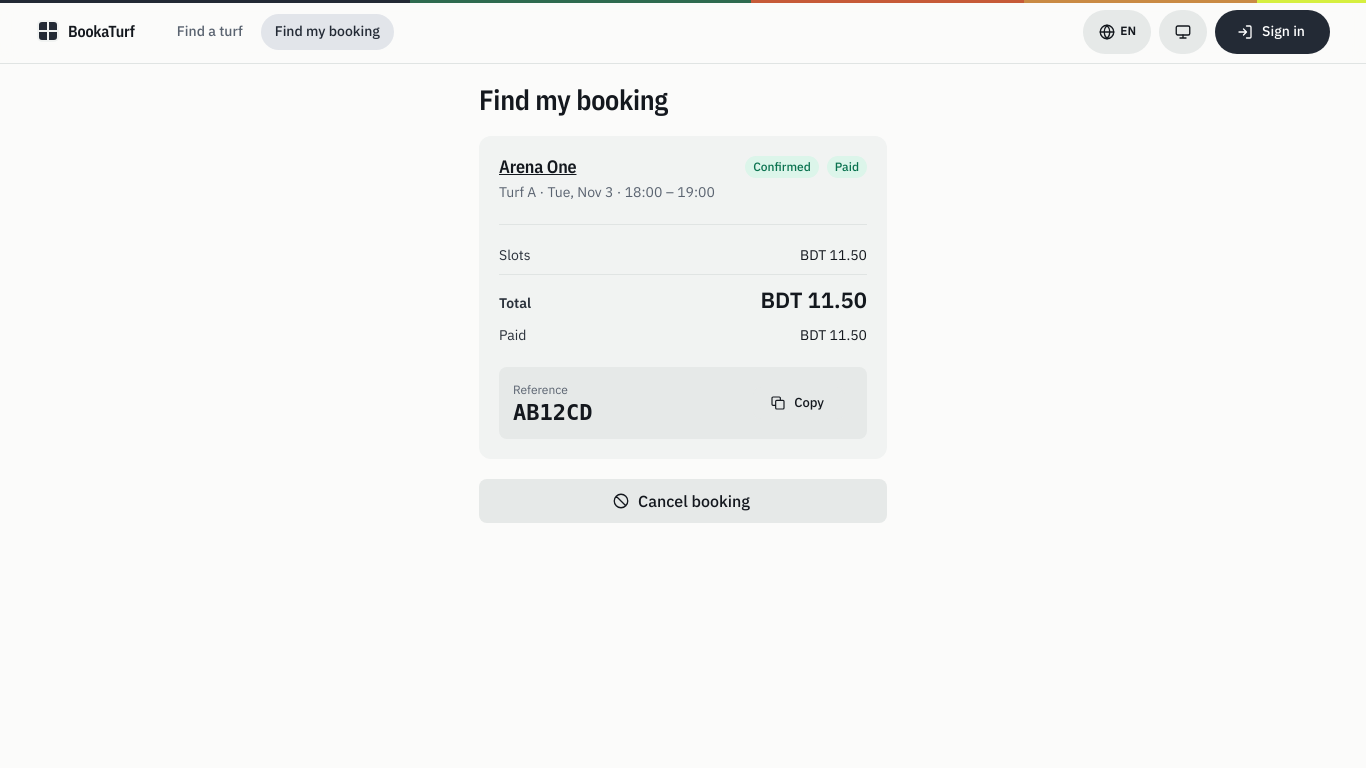
Test: guest lookup › guest cancel needs code
Step 1. Click the button "Cancel booking" → (683, 501), box [479,479,887,523]
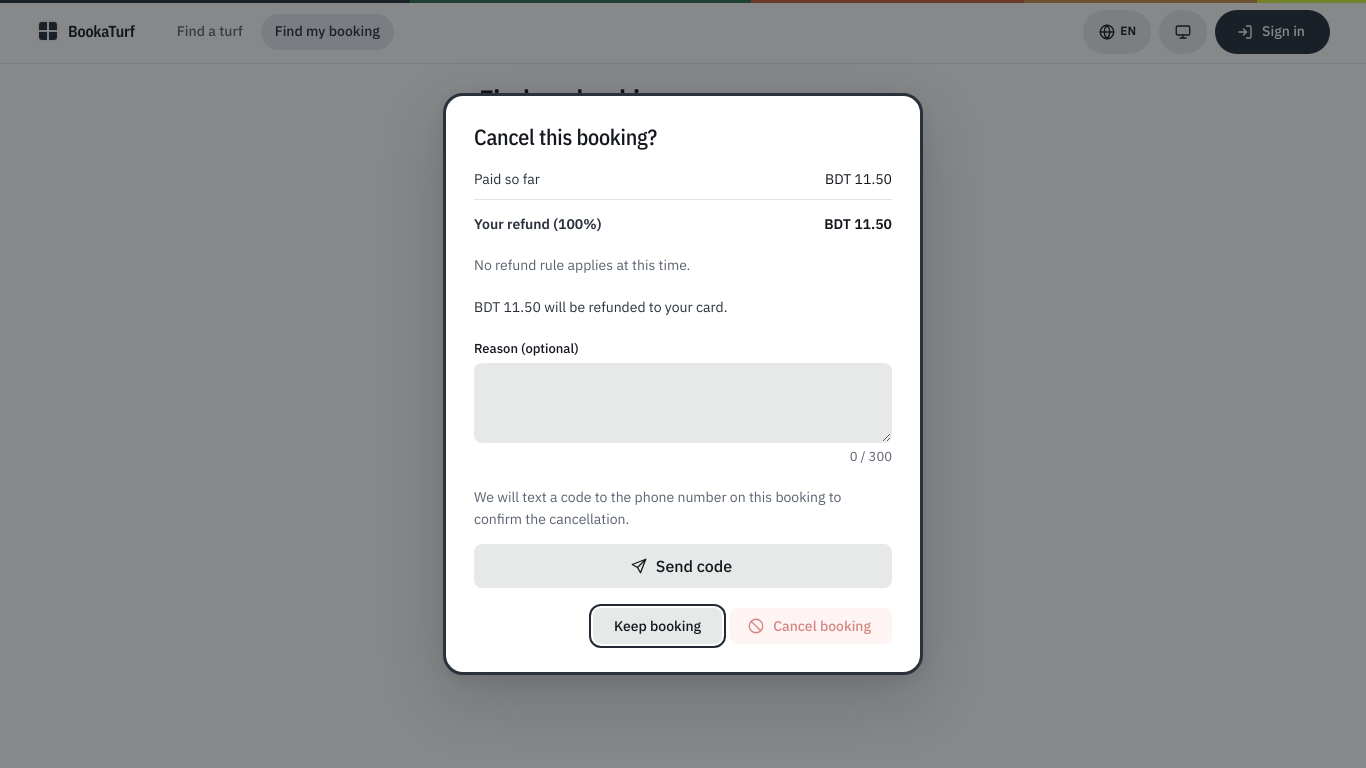
Expected: the button "Send code" is shown
Expected: the button "Cancel booking" below "300" is disabled, [730,608,892,644]
Step 2. Click the button "Send code" → (683, 566), box [474,544,892,588]
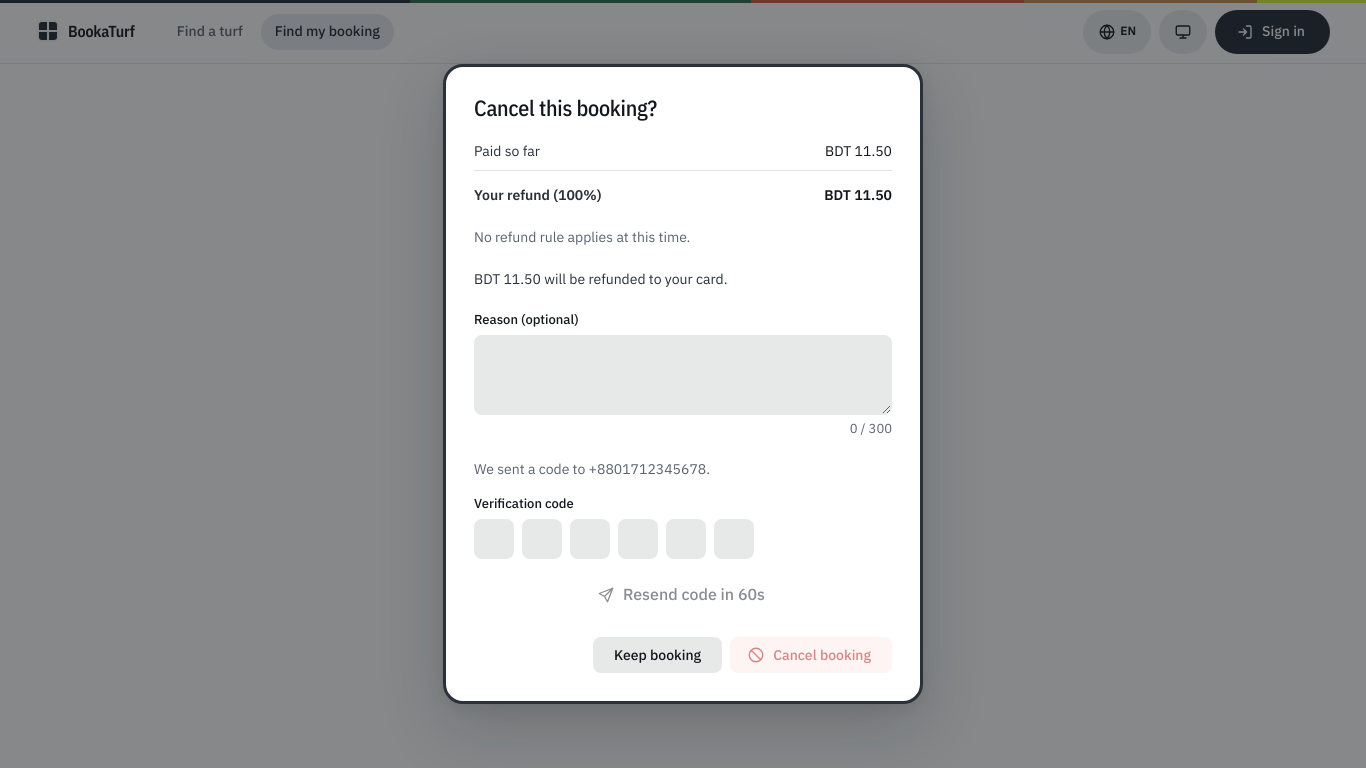
Expected: the button "Cancel booking" below "Verification code" is disabled, [730,637,892,673]
Step 3. Click the field named "Digit 1 of 6" → (494, 539), box [474,519,514,559]
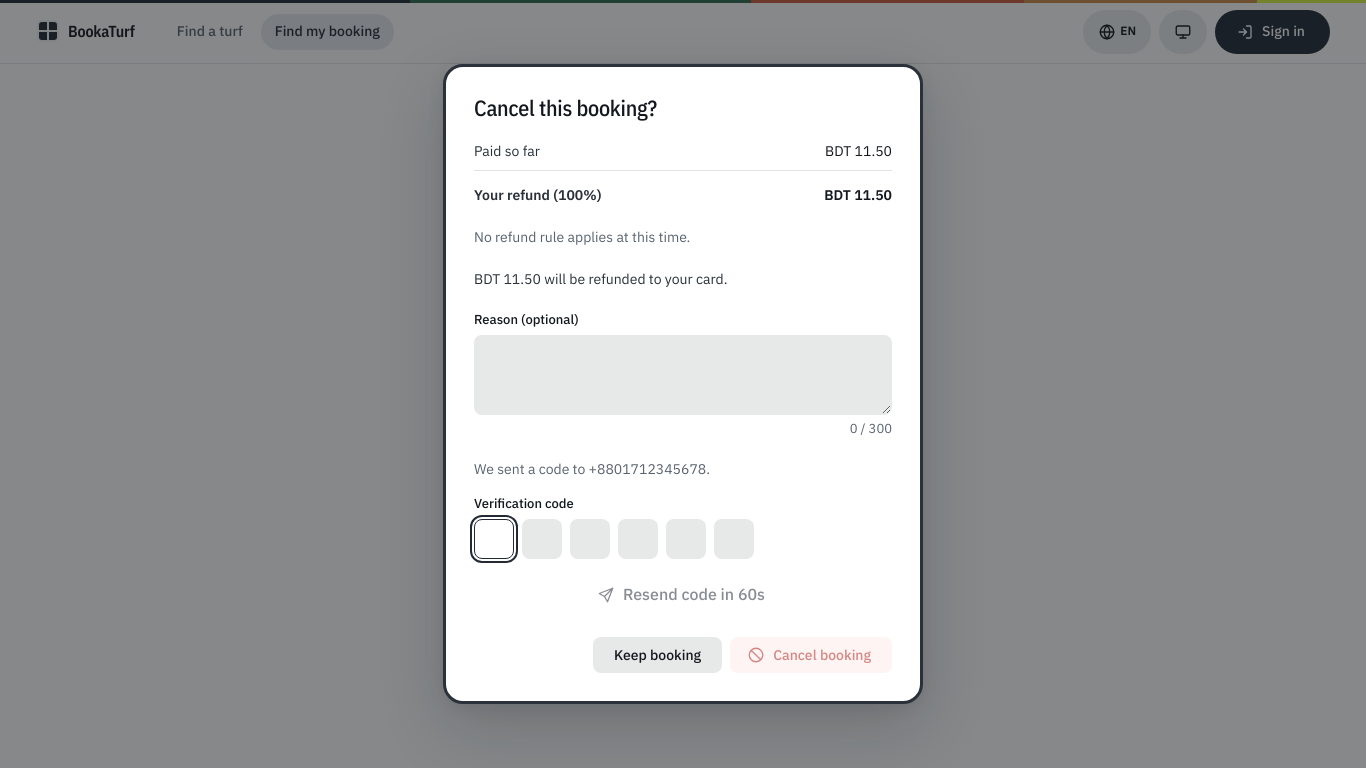
Step 4. Type keys "123456"
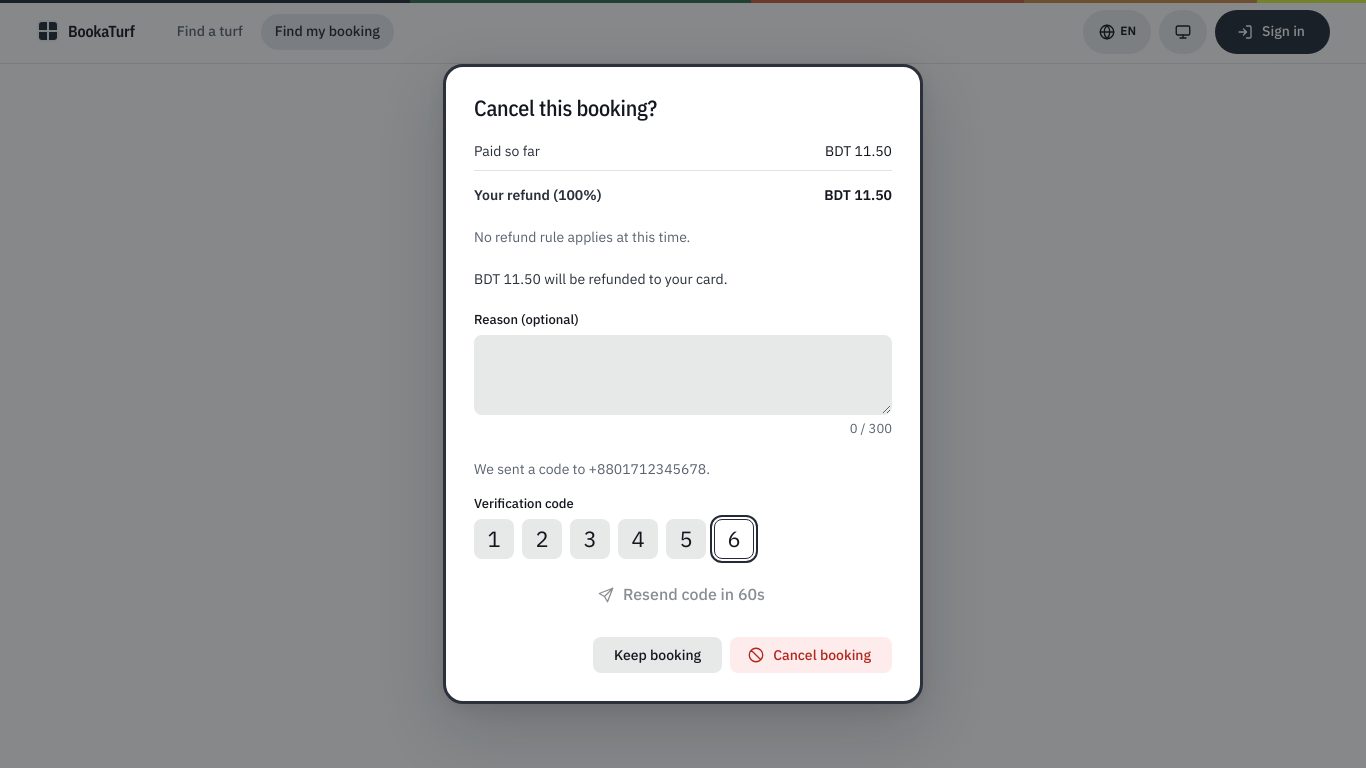
Expected: the button "Cancel booking" below "Verification code" is enabled
Step 5. Click the button "Cancel booking" below "Verification code" → (811, 655), box [730,637,892,673]
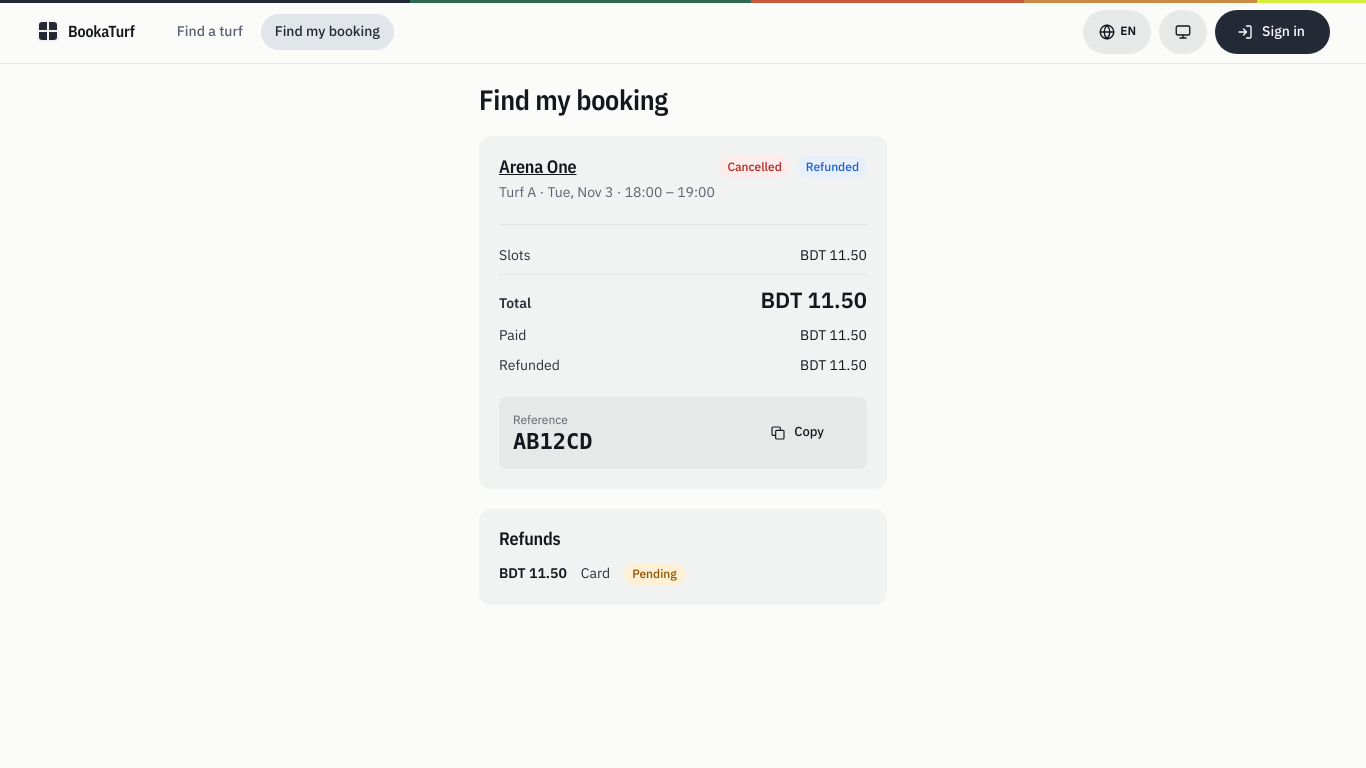
Expected: the text "Cancelled" is shown, [719,156,790,178]
Expected: the heading "Refunds" is shown, [499,527,560,550]
Expected: the button "Cancel booking" is gone
